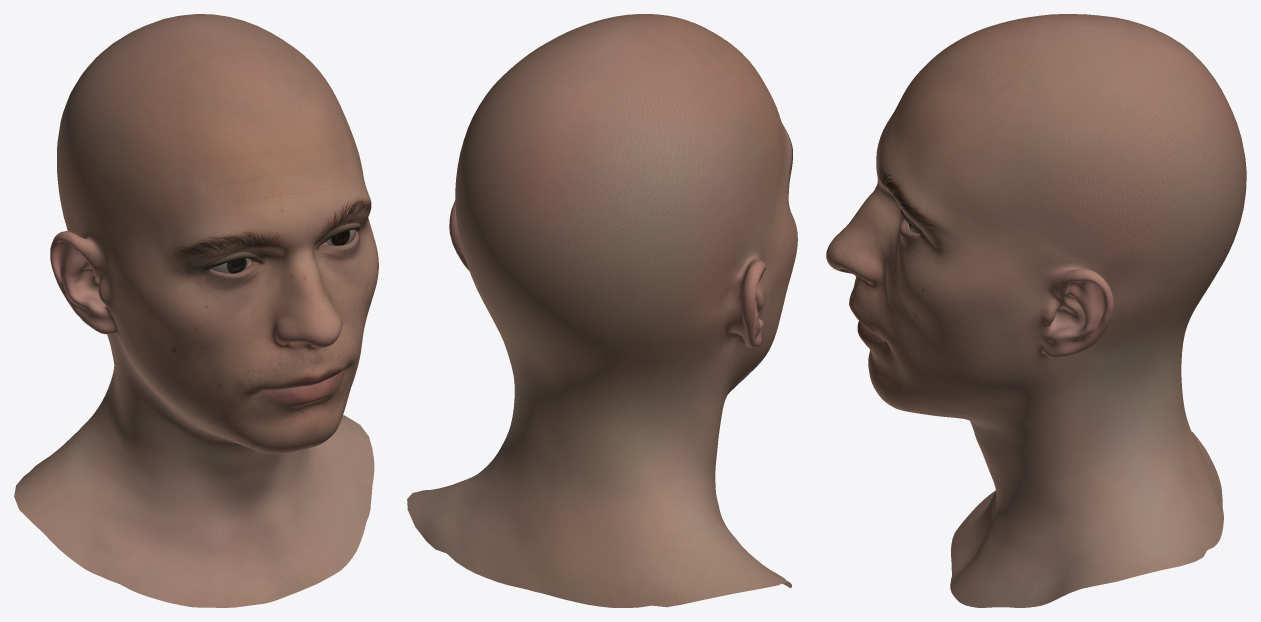
3 views of the same model, side by side, from view 1: azimuth 30°, elevation 25°; view 2: azimuth 150°, elevation 25°; view 3: azimuth 270°, elevation 25° (orthographic). The views are drawn at different scales.
Parts seen in each view (by area): view 1: Registered head; view 2: Registered head; view 3: Registered head.
Part boxes in pixels (x1=…): Registered head: x1=14, y1=14, x2=378, y2=607; Registered head: x1=407, y1=14, x2=797, y2=607; Registered head: x1=826, y1=14, x2=1246, y2=607.
Size of the model in its own units: 1.26 by 1.87 by 1.3.
3 materials, 3 textured.
